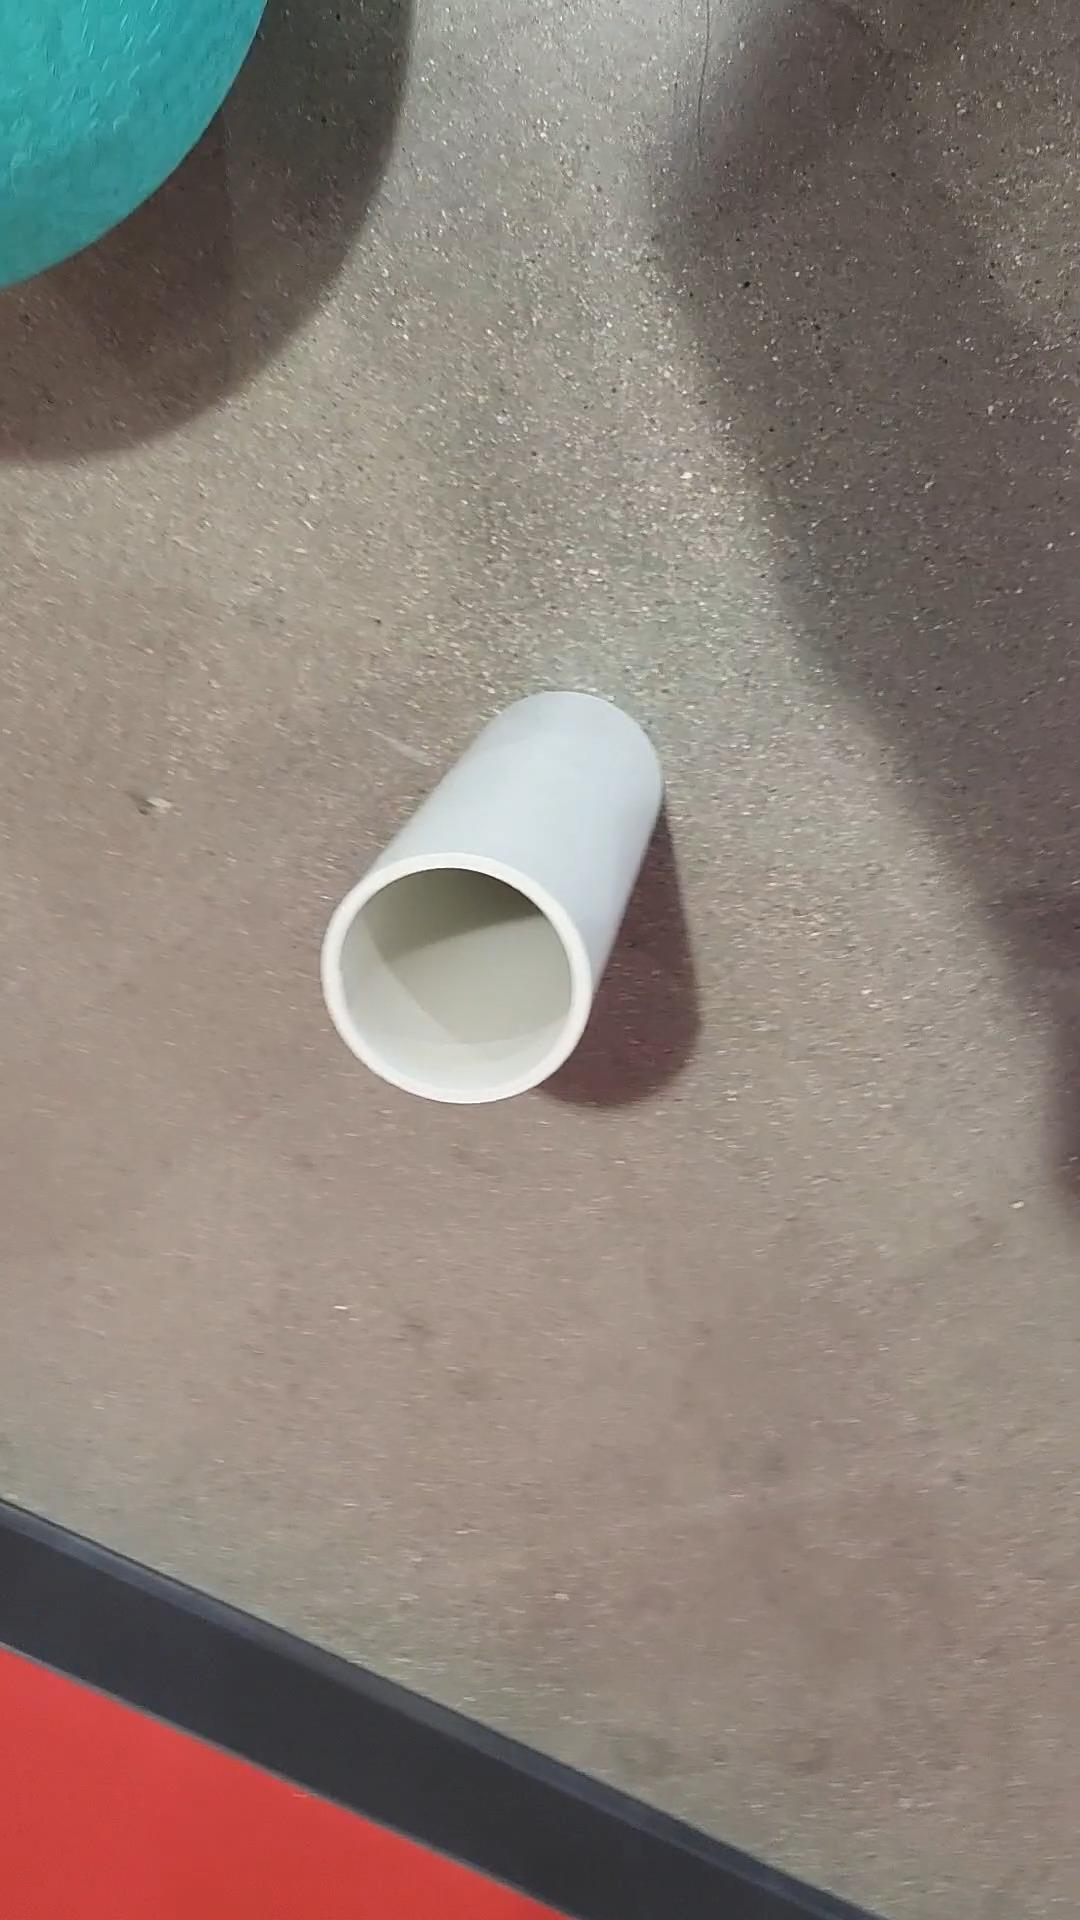algae: (0, 0, 273, 293)
coral: (327, 680, 659, 1106)
